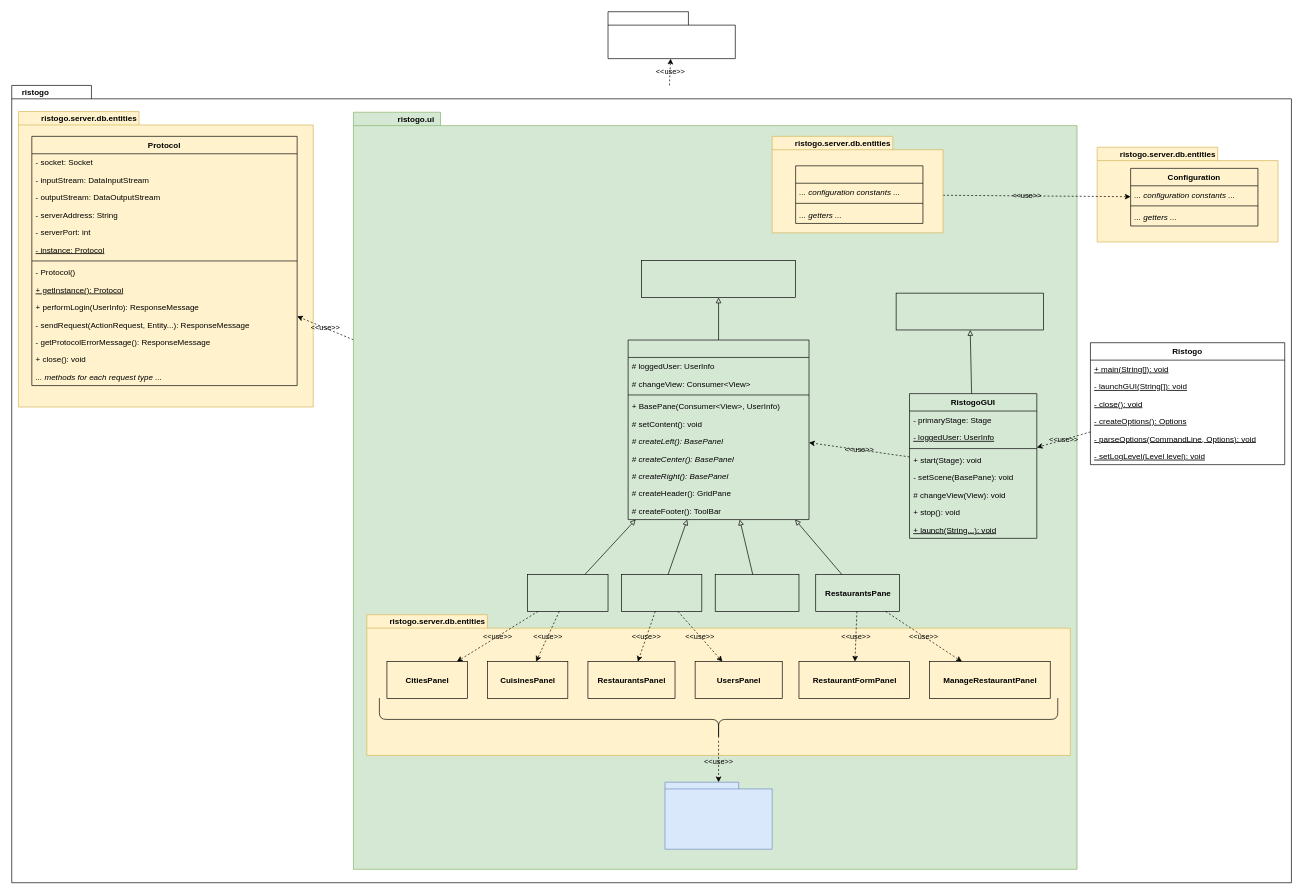
Some shapes in this 1303 by 894 pixel diagram are drawn without their labels. The box of each missing label's shape, as (x1, y1, x2, y2) in pixels:
AdminPane: (527, 574, 608, 611)
BasePane: (627, 339, 809, 520)
GUIConfig: (795, 165, 923, 223)
javafx.application.Application: (895, 292, 1044, 330)
javafx.scene.layout.BorderPane: (641, 260, 796, 297)
MainPane: (621, 574, 702, 611)
PreferencesPane: (715, 574, 799, 611)
ristogo.common: (607, 11, 735, 59)
ristogo.ui.beans ristogo.ui.boxes ristogo.ui.controls ristogo.ui.dialogs: (664, 782, 772, 849)
